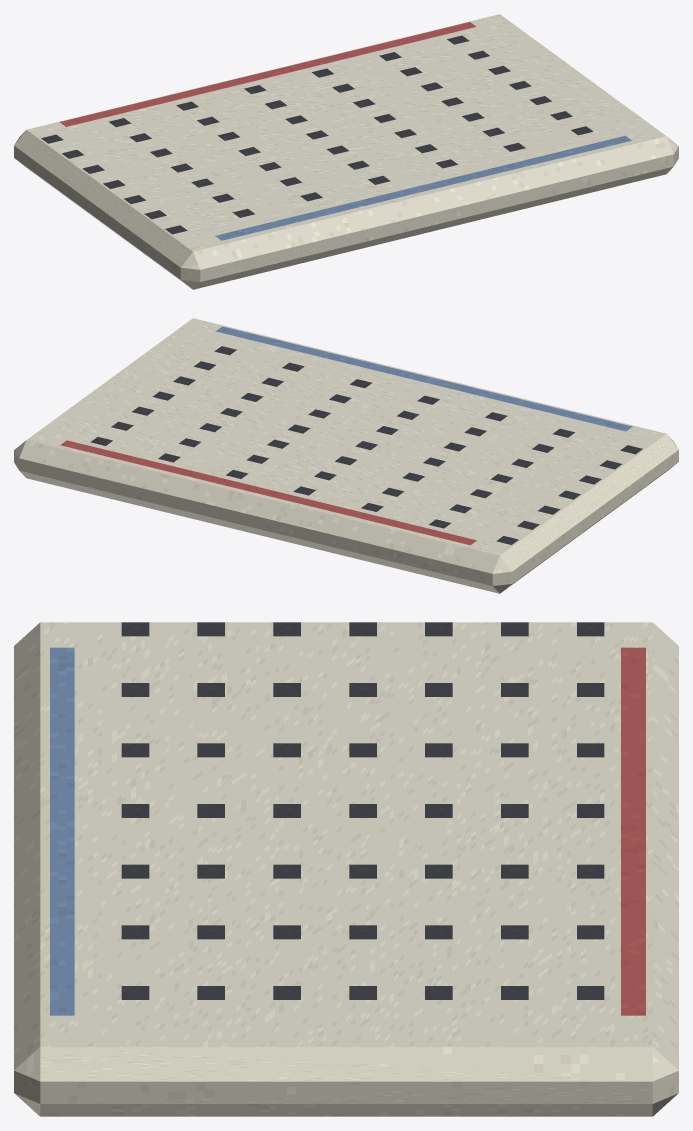
The model's file is breadboard.glb.
3 renders of one model, top to bottom at view 1: azimuth 30°, elevation 25°; view 2: azimuth 150°, elevation 25°; view 3: azimuth 270°, elevation 25°, orthographic. The views are drawn at different scales.
Parts seen in each view (by area): view 1: block_circuit substrate, block_supply rail (×2); view 2: block_circuit substrate, block_supply rail (×2); view 3: block_circuit substrate, block_supply rail (×2).
Part boxes in pixels (x1,y1,x2,y2): block_circuit substrate: [14, 14, 678, 289]; block_supply rail (×2): [60, 22, 631, 240]; block_circuit substrate: [14, 318, 678, 593]; block_supply rail (×2): [60, 326, 632, 545]; block_circuit substrate: [14, 622, 678, 1116]; block_supply rail (×2): [50, 647, 645, 1015].
Size of the model in its own units: 0.082 by 0.00621 by 0.0516.
1 material, 1 textured.
